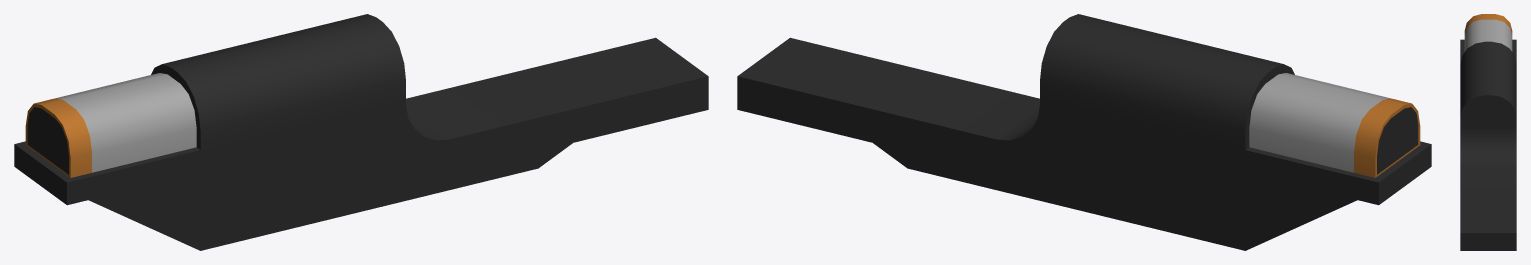
The model's file is Body_Pistol_2.glb.
3 views of the same model, side by side, from view 1: azimuth 30°, elevation 25°; view 2: azimuth 150°, elevation 25°; view 3: azimuth 270°, elevation 25° (orthographic). The views are drawn at different scales.
Parts seen in each view (by area): view 1: Body_Pistol_2; view 2: Body_Pistol_2; view 3: Body_Pistol_2.
Part boxes in pixels (<box>): Body_Pistol_2: <box>14,14,708,250</box>; Body_Pistol_2: <box>737,14,1431,250</box>; Body_Pistol_2: <box>1460,14,1516,250</box>.
Size of the model in its own units: 0.7904 by 0.1905 by 0.1124.
